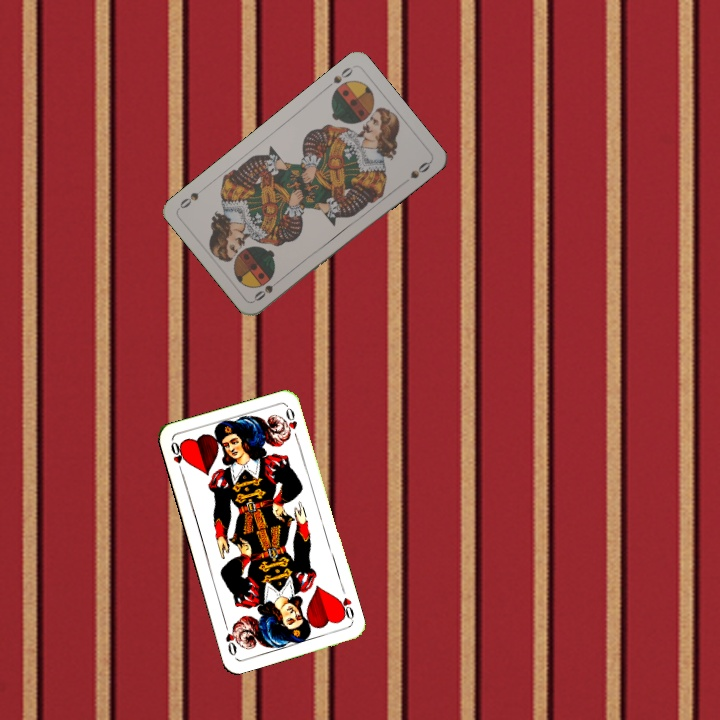HO: (167, 438, 187, 477), (333, 594, 357, 624)
SO: (250, 274, 285, 304), (321, 63, 356, 92)
